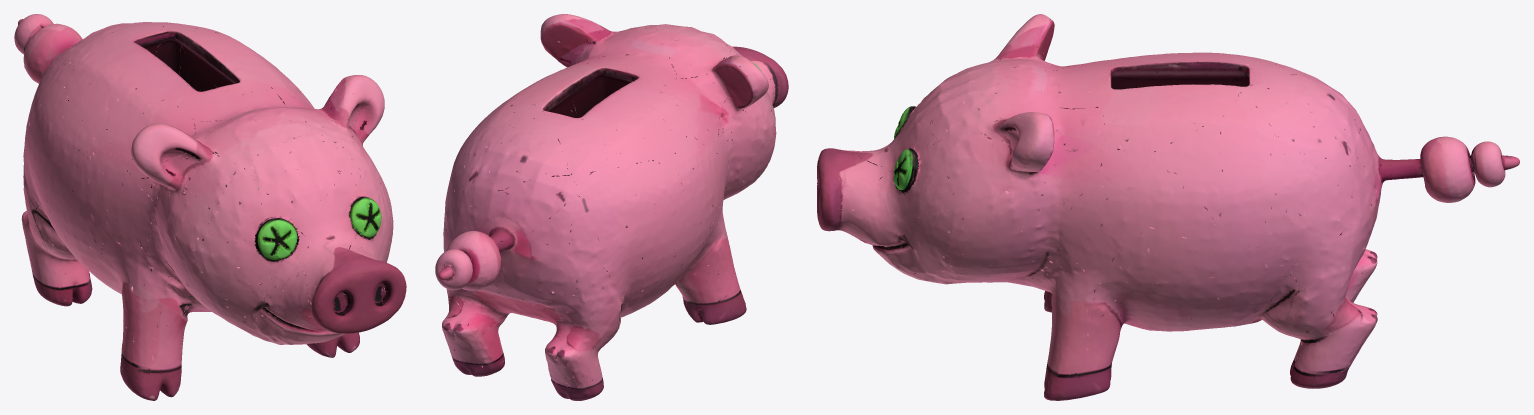
File: piggybank.glb
The picture shows the model from 3 angles, left to right: view 1: azimuth 30°, elevation 25°; view 2: azimuth 150°, elevation 25°; view 3: azimuth 270°, elevation 25°; orthographic projection. The views are drawn at different scales.
Visible parts, largest first — view 1: origin, Mesh_0_cell.018, Mesh_0_cell.032, Mesh_0_cell.084, Mesh_0_cell.017, Mesh_0_cell.006, Mesh_0_cell.061, Mesh_0_cell.082, Mesh_0_cell.014, Mesh_0_cell.060, Mesh_0_cell.025, Mesh_0_cell.074 (+28 smaller); view 2: origin, Mesh_0_cell.071, Mesh_0_cell.084, Mesh_0_cell.005, Mesh_0_cell.017, Mesh_0_cell.032, Mesh_0_cell.070, Mesh_0_cell.076, Mesh_0_cell.100, Mesh_0_cell.058, Mesh_0_cell.009, Mesh_0_cell.060 (+23 smaller); view 3: origin, Mesh_0_cell.090, Mesh_0_cell.073, Mesh_0_cell.071, Mesh_0_cell.099, Mesh_0_cell.082, Mesh_0_cell.084, Mesh_0_cell.021, Mesh_0_cell.094, Mesh_0_cell.025, Mesh_0_cell.041, Mesh_0_cell.002 (+16 smaller).
Boxes of the visible parts, x1=… form: origin: x1=14, y1=14, x2=406, y2=400; Mesh_0_cell.018: x1=244, y1=133, x2=370, y2=242; Mesh_0_cell.032: x1=51, y1=120, x2=110, y2=253; Mesh_0_cell.084: x1=170, y1=76, x2=307, y2=124; Mesh_0_cell.017: x1=62, y1=29, x2=182, y2=129; Mesh_0_cell.006: x1=191, y1=236, x2=303, y2=285; Mesh_0_cell.061: x1=108, y1=171, x2=155, y2=254; Mesh_0_cell.082: x1=272, y1=75, x2=376, y2=147; Mesh_0_cell.014: x1=101, y1=238, x2=164, y2=347; Mesh_0_cell.060: x1=194, y1=114, x2=312, y2=165; Mesh_0_cell.025: x1=181, y1=31, x2=300, y2=94; Mesh_0_cell.074: x1=162, y1=148, x2=236, y2=209; origin: x1=435, y1=14, x2=788, y2=400; Mesh_0_cell.071: x1=463, y1=107, x2=569, y2=210; Mesh_0_cell.084: x1=586, y1=27, x2=675, y2=103; Mesh_0_cell.005: x1=579, y1=160, x2=684, y2=271; Mesh_0_cell.017: x1=545, y1=84, x2=686, y2=175; Mesh_0_cell.032: x1=673, y1=134, x2=718, y2=241; Mesh_0_cell.070: x1=493, y1=189, x2=574, y2=306; Mesh_0_cell.076: x1=562, y1=193, x2=613, y2=303; Mesh_0_cell.100: x1=475, y1=175, x2=574, y2=224; Mesh_0_cell.058: x1=575, y1=181, x2=647, y2=303; Mesh_0_cell.009: x1=659, y1=74, x2=726, y2=149; Mesh_0_cell.060: x1=656, y1=25, x2=728, y2=77; origin: x1=817, y1=14, x2=1519, y2=400; Mesh_0_cell.090: x1=916, y1=125, x2=1022, y2=255; Mesh_0_cell.073: x1=1253, y1=153, x2=1365, y2=265; Mesh_0_cell.071: x1=1244, y1=75, x2=1364, y2=174; Mesh_0_cell.099: x1=1098, y1=225, x2=1235, y2=282; Mesh_0_cell.082: x1=961, y1=93, x2=1105, y2=151; Mesh_0_cell.084: x1=987, y1=60, x2=1132, y2=107; Mesh_0_cell.021: x1=1219, y1=92, x2=1283, y2=258; Mesh_0_cell.094: x1=856, y1=163, x2=954, y2=272; Mesh_0_cell.025: x1=1104, y1=84, x2=1242, y2=151; Mesh_0_cell.041: x1=1057, y1=180, x2=1138, y2=281; Mesh_0_cell.002: x1=963, y1=128, x2=1073, y2=230.
Bounding box in the file's own units: 0.7922 × 0.8712 × 1.9.
1 material, 1 textured.
